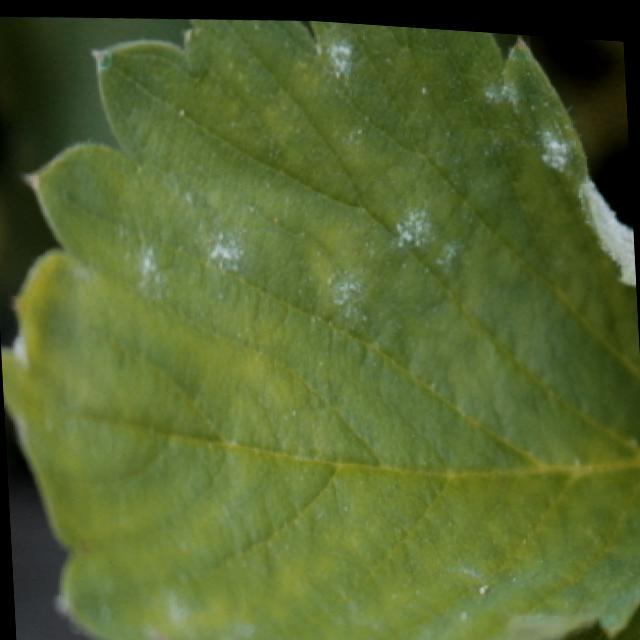Powdery Mildew Leaf: (1, 16, 640, 640)
